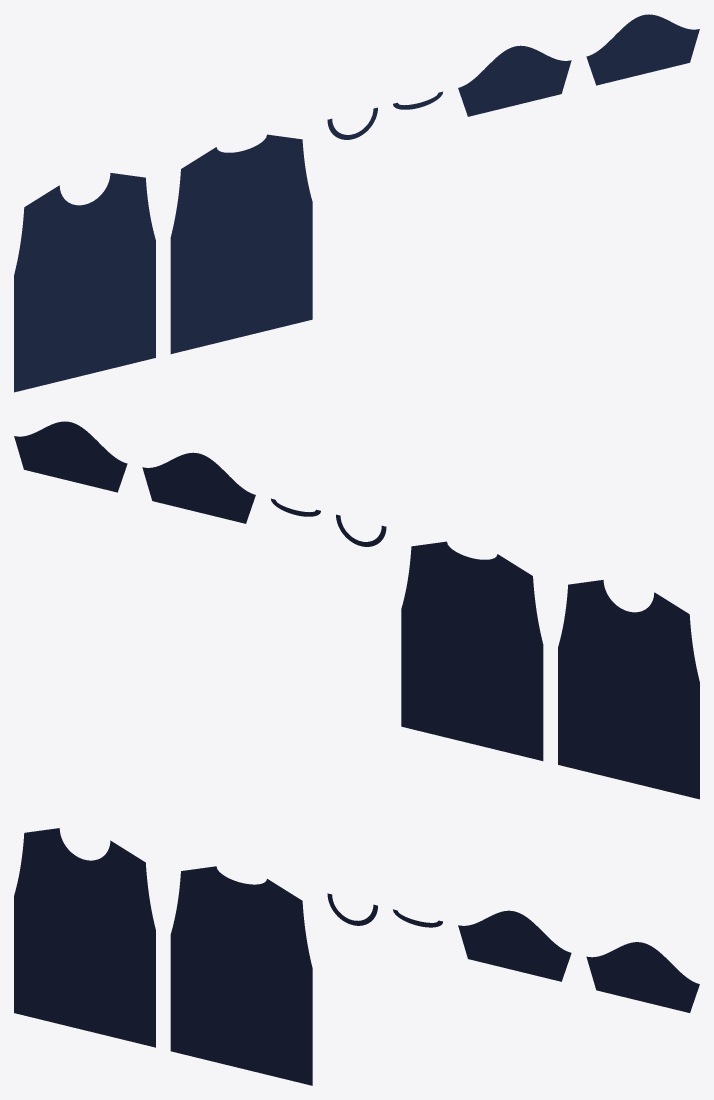
The model's file is camiseta-basica-supima-unisex-talla-XS.glb.
The picture shows the model from 3 angles, top to bottom: view 1: azimuth 30°, elevation 25°; view 2: azimuth 150°, elevation 25°; view 3: azimuth 330°, elevation 25°; orthographic projection.
Parts seen in each view (by area): view 1: patron-espalda, patron-delantero, patron-manga-der, patron-manga-izq; view 2: patron-espalda, patron-delantero, patron-manga-der, patron-manga-izq; view 3: patron-espalda, patron-delantero, patron-manga-izq, patron-manga-der.
Boxes of the visible parts, x1,y1,x2,y2 form: patron-espalda: [170, 134, 312, 353]; patron-delantero: [14, 173, 155, 392]; patron-manga-der: [586, 14, 699, 85]; patron-manga-izq: [458, 45, 571, 116]; patron-espalda: [401, 541, 543, 760]; patron-delantero: [558, 580, 699, 799]; patron-manga-der: [14, 421, 127, 492]; patron-manga-izq: [142, 452, 255, 523]; patron-espalda: [170, 866, 312, 1085]; patron-delantero: [14, 828, 155, 1047]; patron-manga-izq: [458, 910, 571, 981]; patron-manga-der: [586, 942, 699, 1012].
Size of the model in its own units: 2.34 by 0.73 by 0.
